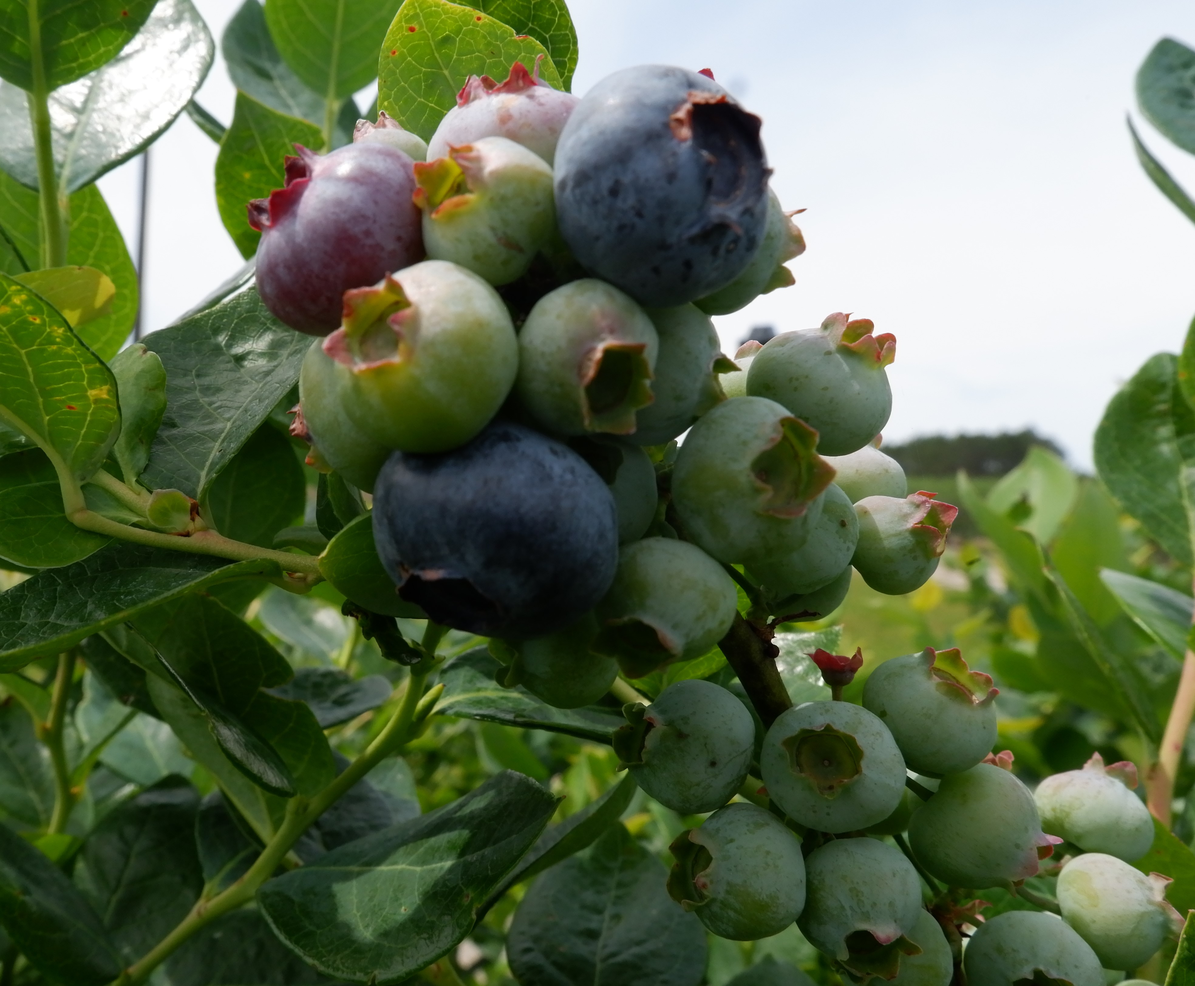Immature: (322, 265, 511, 451), (254, 140, 425, 336), (675, 401, 836, 563), (413, 136, 558, 285), (517, 280, 655, 435), (751, 321, 892, 454), (614, 681, 754, 812), (670, 807, 805, 941), (763, 703, 903, 832), (596, 542, 735, 670), (911, 766, 1051, 887), (805, 839, 923, 978), (865, 651, 996, 776), (632, 306, 740, 445), (289, 338, 386, 479), (433, 67, 576, 162), (1059, 855, 1176, 970), (490, 611, 620, 710), (1036, 760, 1152, 862), (749, 486, 856, 594), (701, 194, 801, 309), (560, 434, 658, 543), (964, 911, 1106, 986), (855, 494, 954, 592), (831, 907, 955, 984), (746, 563, 853, 624), (826, 447, 906, 504), (354, 110, 429, 160), (720, 340, 770, 400)
Mature: (372, 424, 617, 635), (560, 69, 766, 300)
